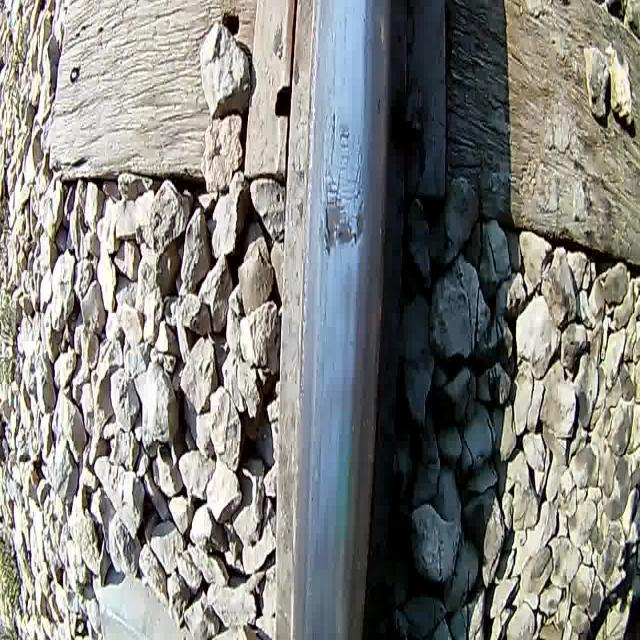Squats: (312, 108, 370, 265)
